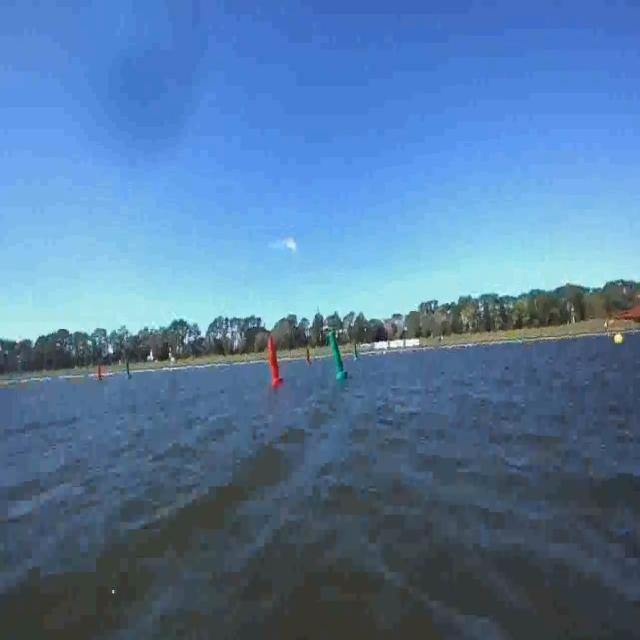green-column-buoy: (326, 331, 346, 378), (127, 358, 134, 378), (353, 345, 360, 362)
red-column-buoy: (266, 336, 284, 386), (97, 362, 105, 380), (306, 347, 312, 365)
yellow-buoy: (614, 332, 626, 348)
